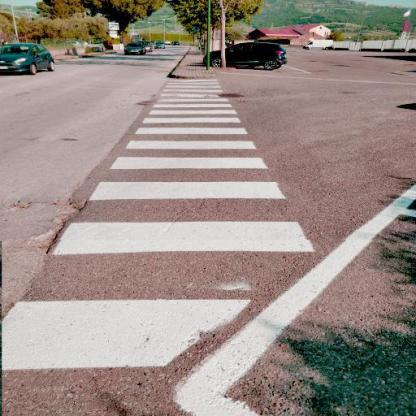crosswalk: (0, 220, 315, 376), (81, 153, 299, 205), (134, 116, 252, 138), (154, 92, 233, 105), (163, 77, 221, 85)
